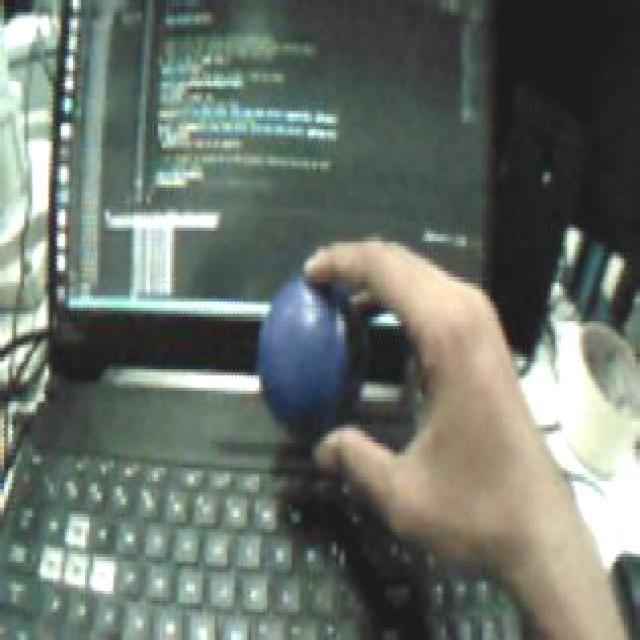BallPurple: (260, 272, 366, 437)
